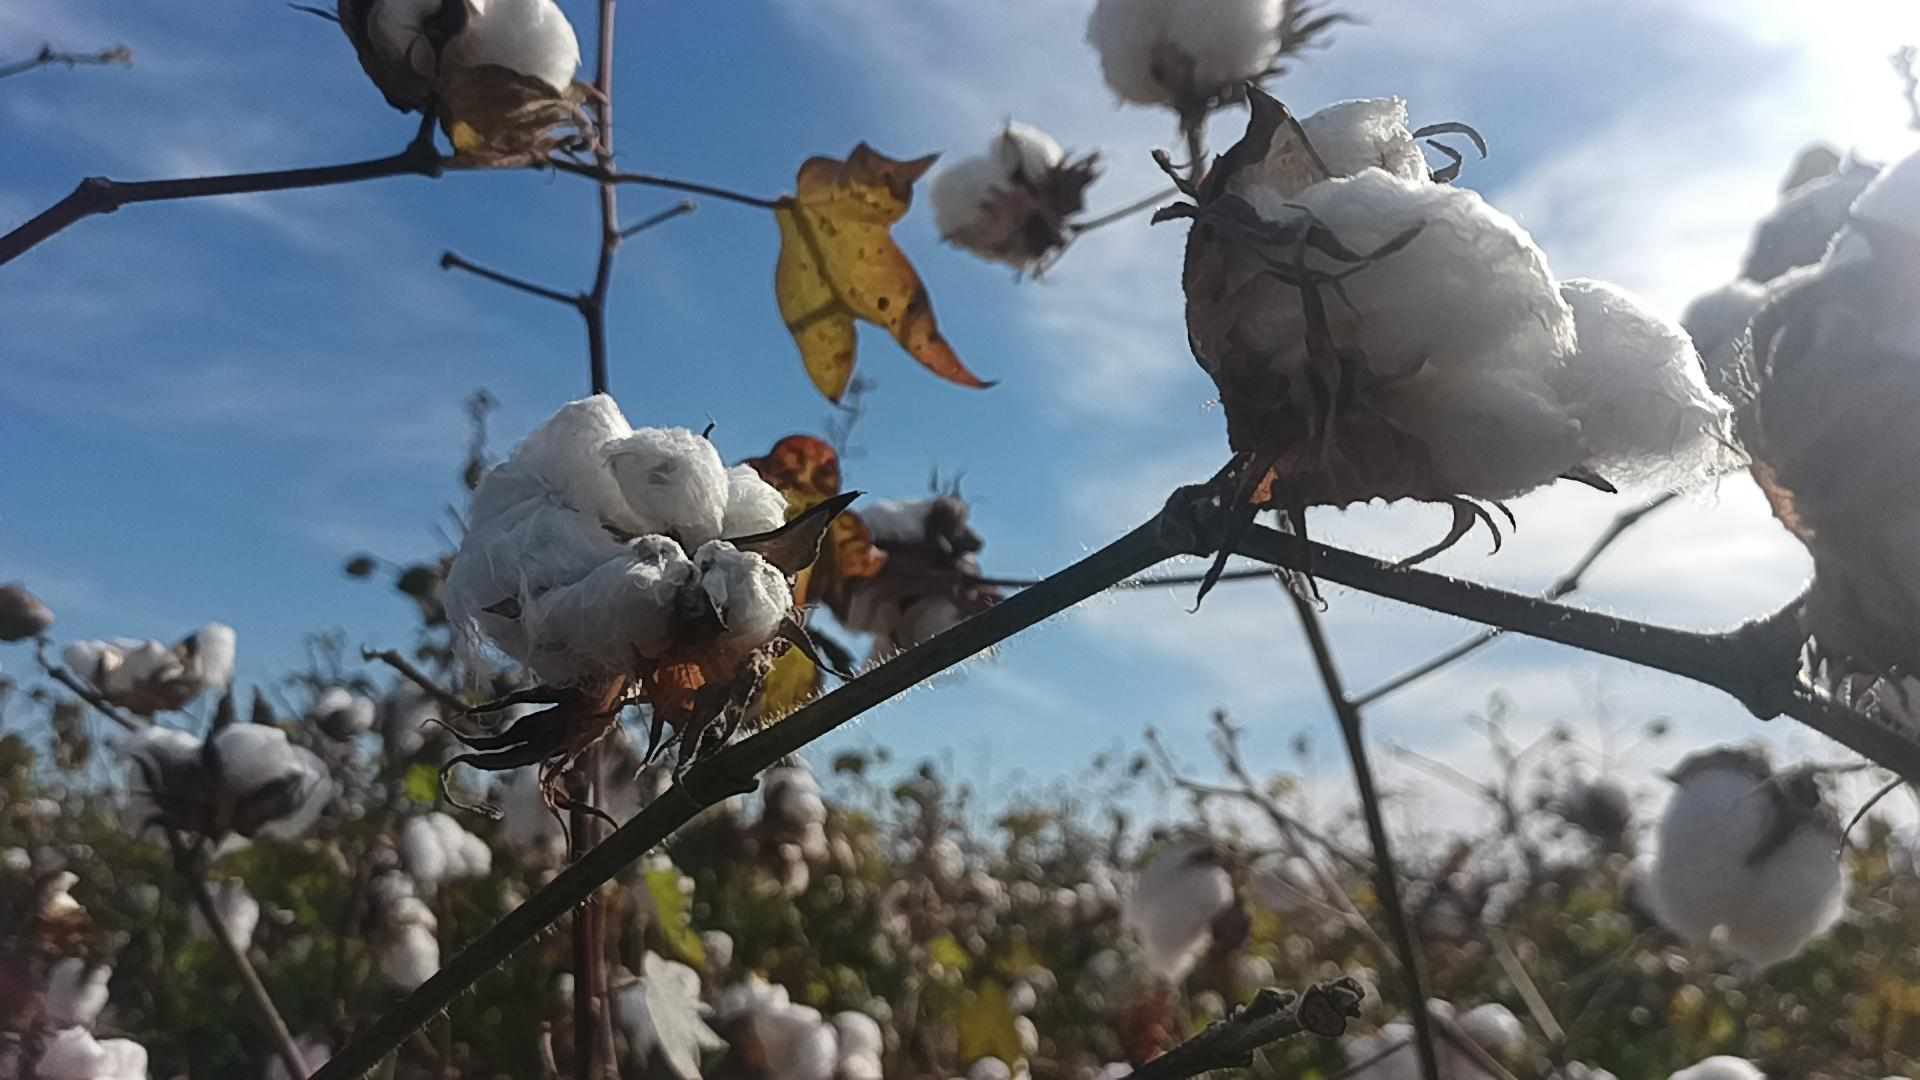cotton_ready: (1180, 88, 1735, 501), (1688, 141, 1920, 679), (444, 393, 795, 691), (1648, 749, 1850, 971), (360, 0, 585, 117), (129, 723, 335, 848), (1085, 0, 1280, 115), (928, 125, 1077, 268), (1126, 837, 1238, 975), (61, 626, 232, 713), (33, 1026, 150, 1080)
